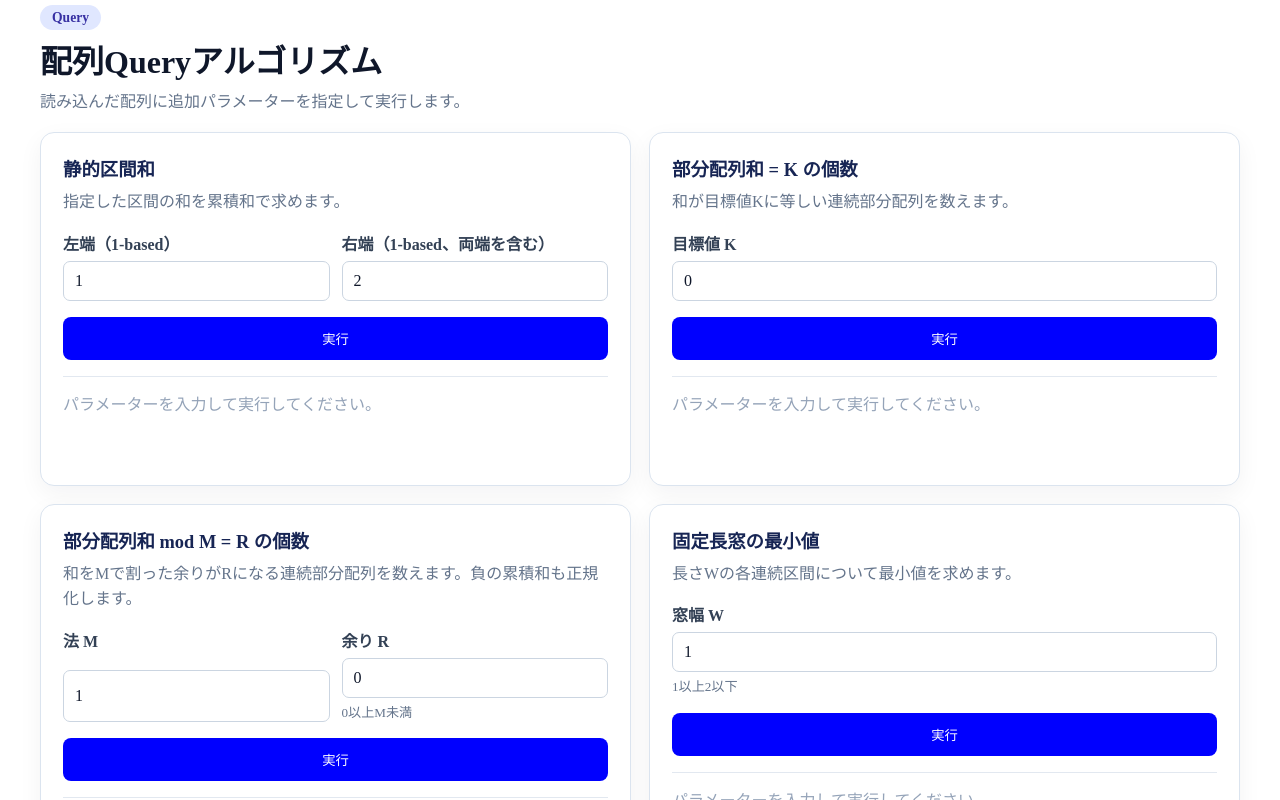
Test case: ArrayQueryAlgorithms › validates the canonical remainder before sending
Replace the text in the number field labelled "法 M" with "3" at (196, 696), box [63, 670, 330, 722]
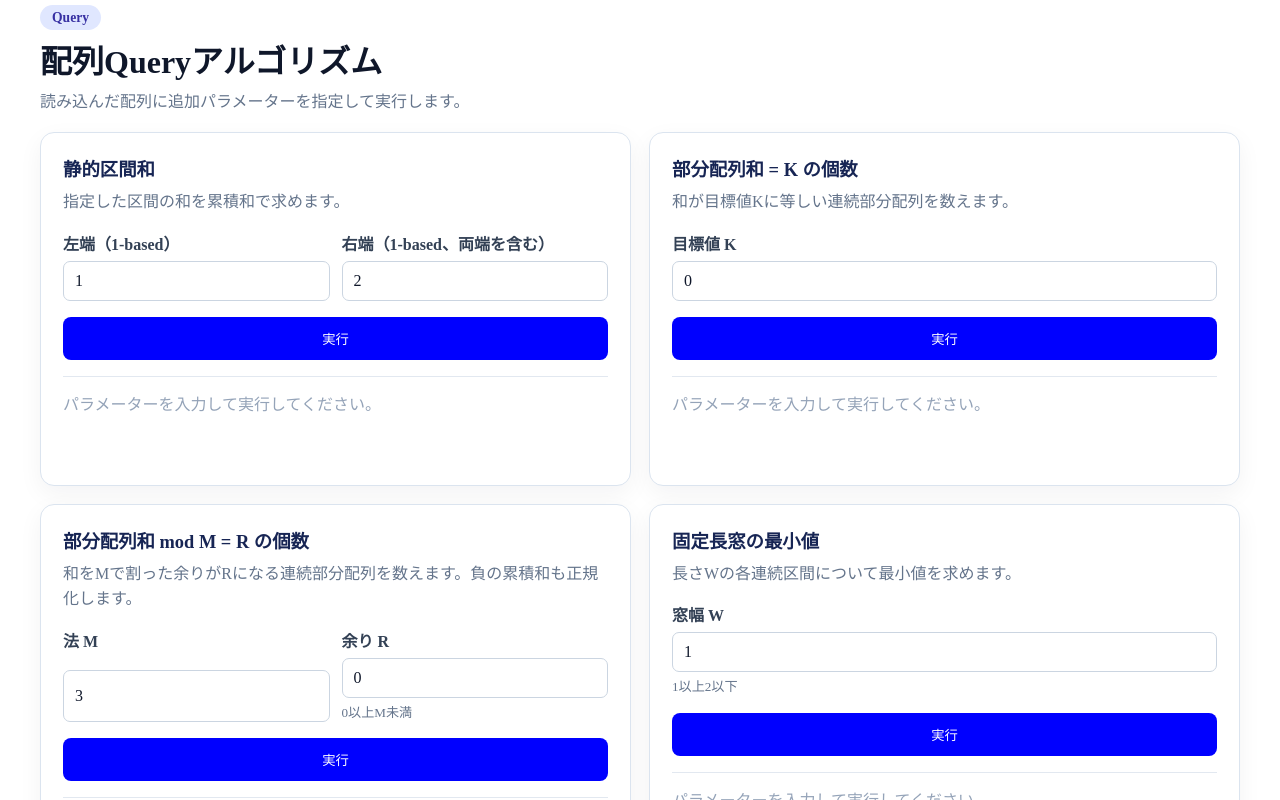
Replace the text in the number field labelled "余り R" with "3" at (475, 678), box [342, 658, 608, 698]
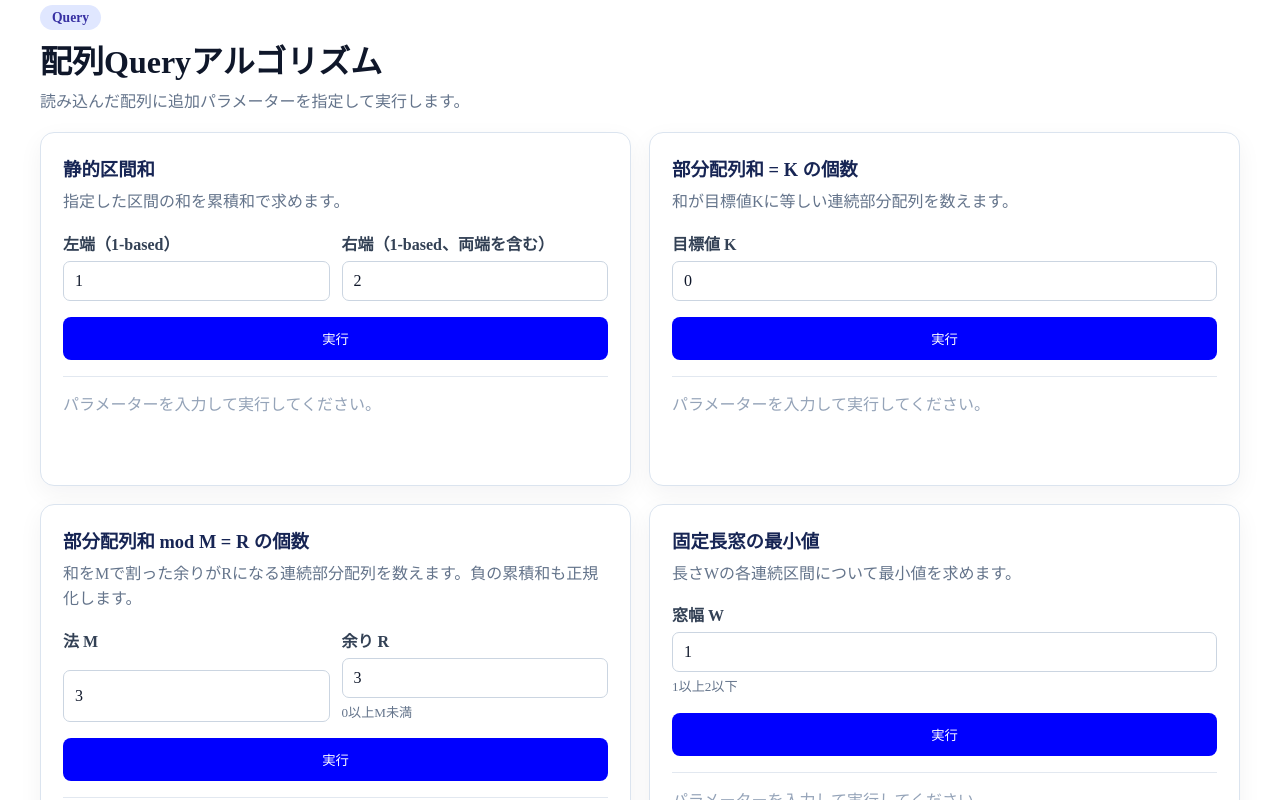
Click the button "実行" below "0以上M未満" at (336, 760), box [63, 738, 608, 781]
(page scrolled)
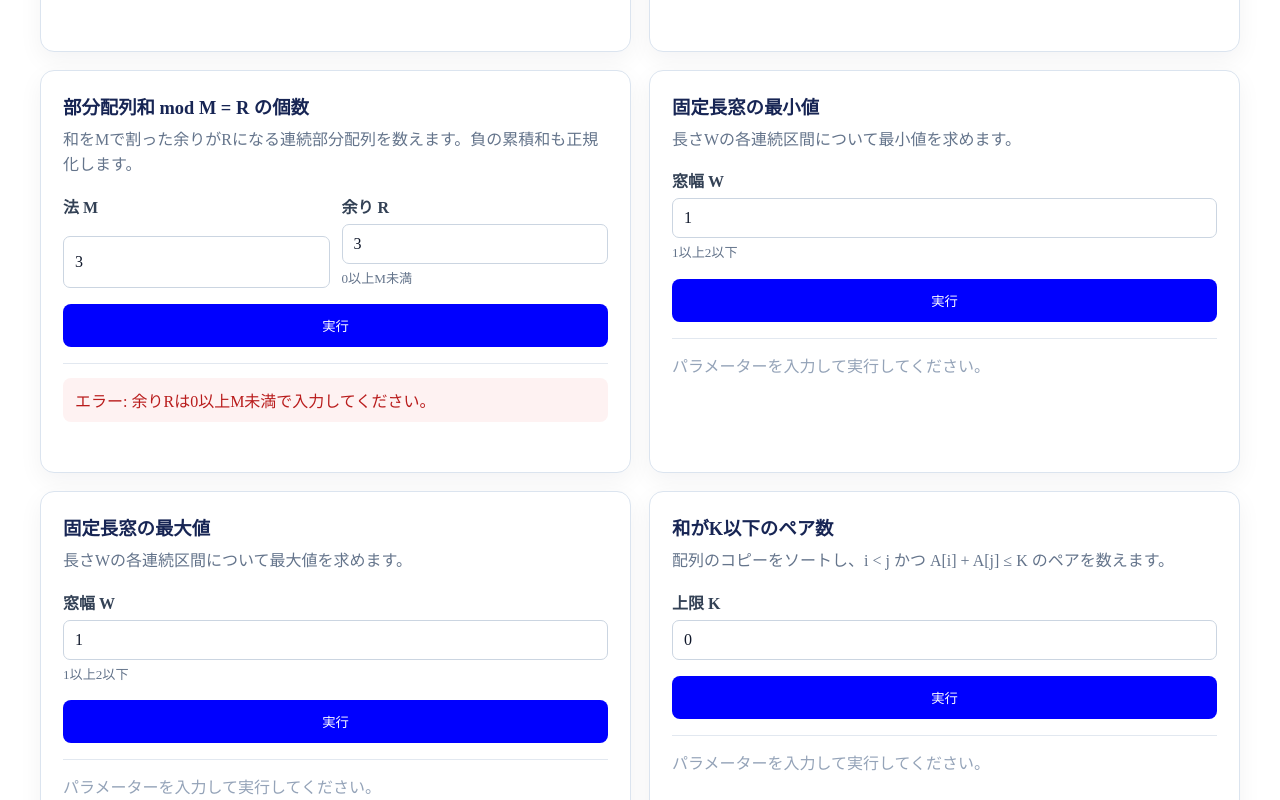
Expected: the text "エラー: 余りRは0以上M未満で入力してください。" is shown, [63, 378, 608, 422]
